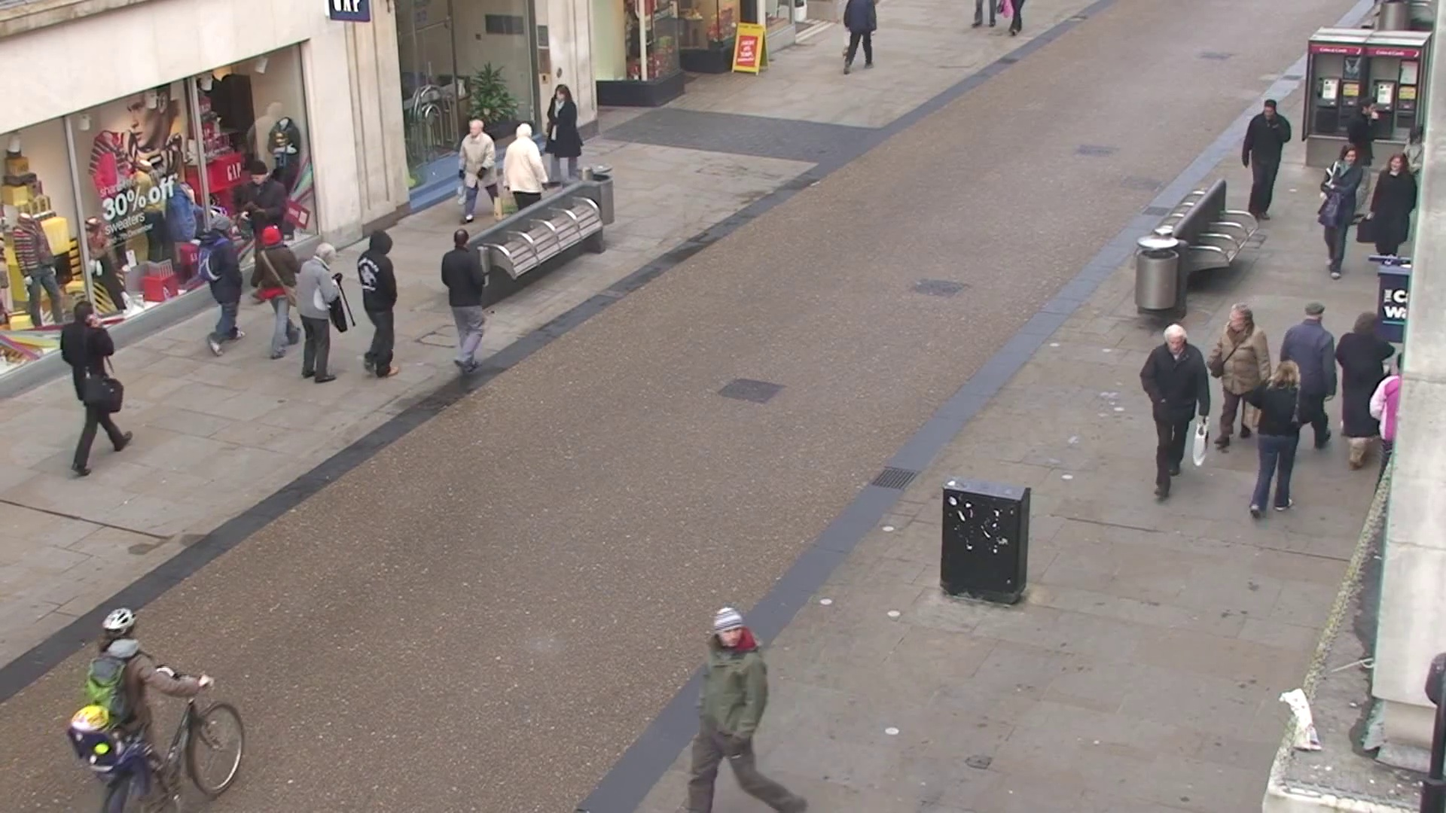person: (684, 604, 805, 811), (83, 609, 210, 802), (1140, 321, 1211, 503), (59, 295, 130, 477), (1242, 356, 1304, 517), (1334, 309, 1393, 467), (1280, 302, 1341, 454), (1212, 304, 1269, 449), (1367, 148, 1417, 312), (292, 242, 347, 382), (440, 224, 488, 376), (252, 226, 304, 361), (355, 231, 401, 379), (1243, 98, 1292, 221), (1316, 148, 1362, 279), (200, 225, 246, 350), (458, 117, 499, 222), (502, 122, 548, 215), (1368, 352, 1403, 474), (545, 81, 583, 189), (842, 0, 877, 73)
